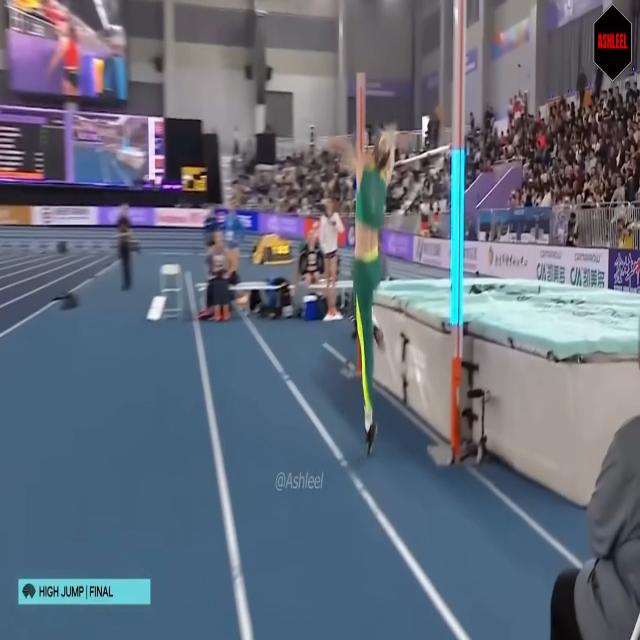jump: (345, 121, 394, 458)
